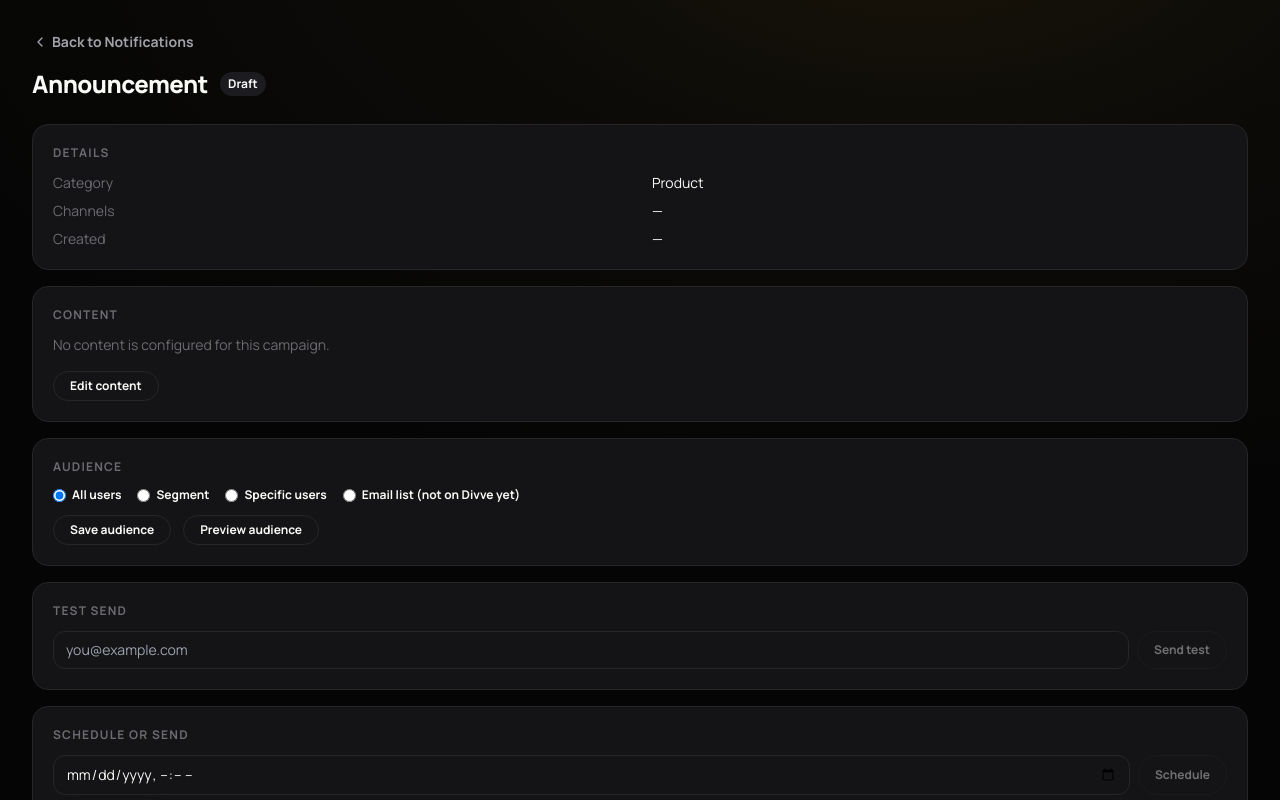
Test case: NotificationCampaignDetail › prompts for step-up when scheduling requires it
This screenshot has width=1280, height=800.
Expected: the heading "Announcement" is shown, [32,68,208,100]
Type "2030-01-01T10:00" into the field with test id "admin-campaign-schedule-input".
click(592, 775); type("2030-01-01T10:00")  # box [53,755,1130,795]
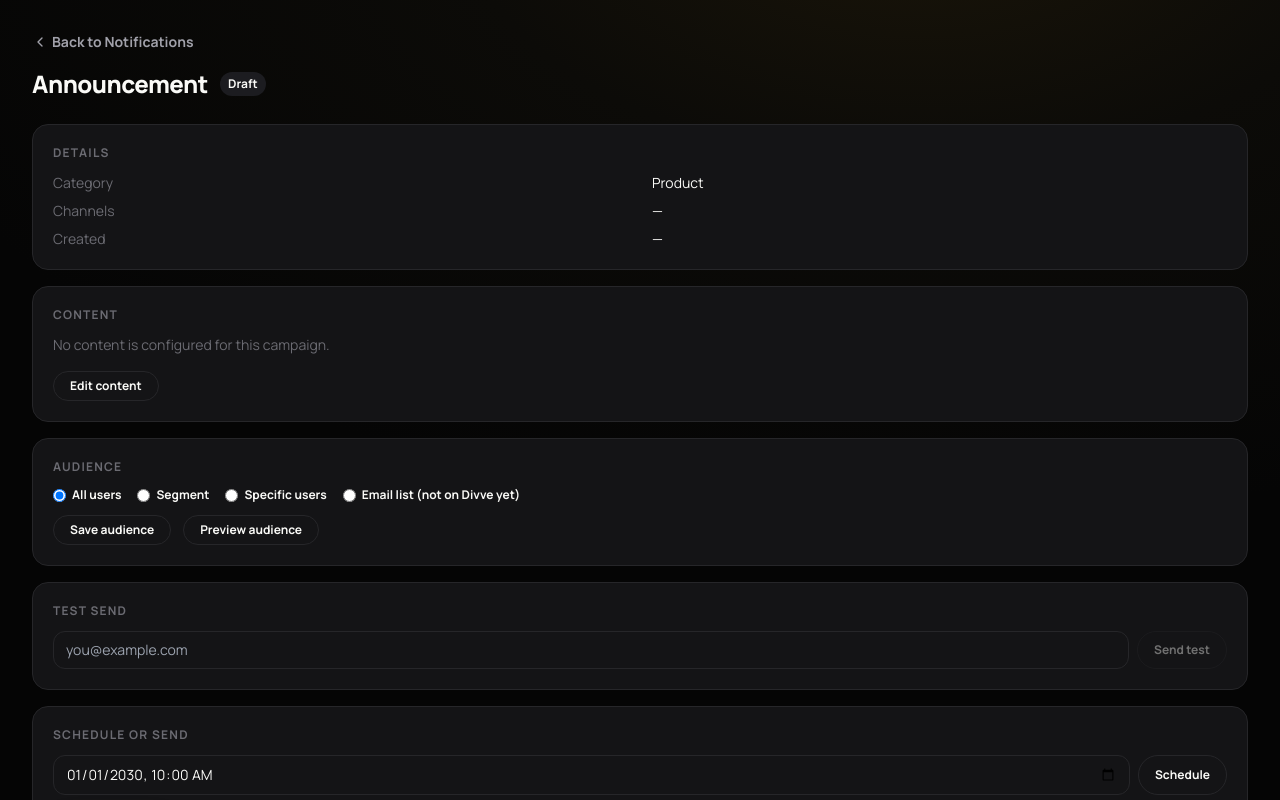
Click the button with test id "admin-campaign-schedule-btn".
click(1182, 775)  # box [1138,755,1227,795]
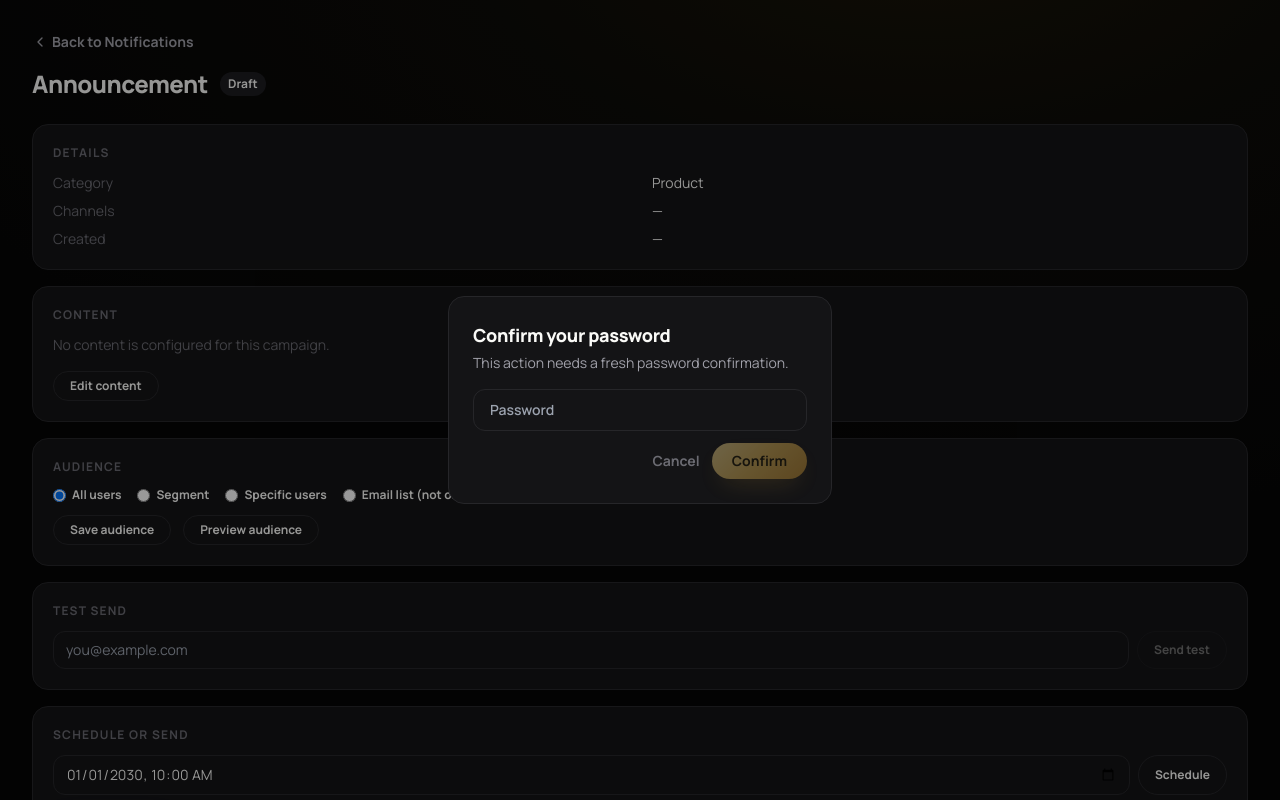
Now the element with test id "admin-stepup-modal" is shown
